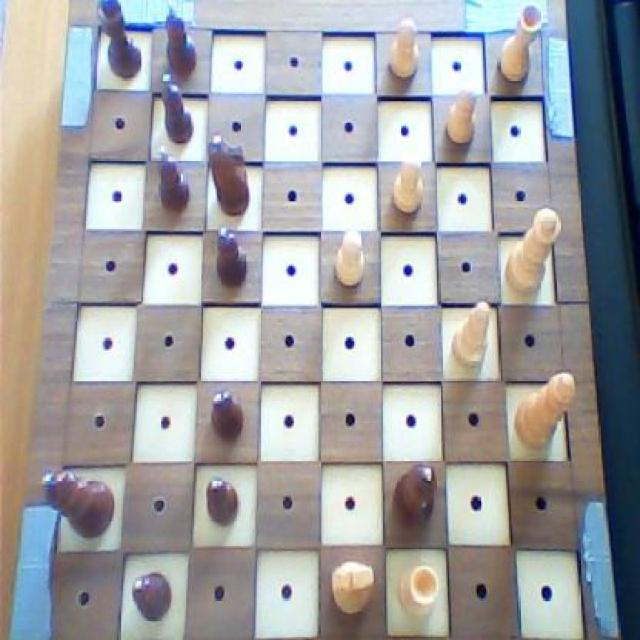black-bishop: (41, 466, 117, 543)
black-king: (205, 131, 252, 220)
black-knight: (157, 0, 200, 77), (156, 70, 197, 146), (208, 222, 252, 289), (151, 146, 193, 215), (206, 384, 249, 444), (128, 572, 174, 625), (203, 474, 239, 529)
black-pawn: (391, 458, 440, 531)
black-queen: (96, 0, 142, 83)
black-rook: (451, 297, 494, 373)
white-bishop: (514, 366, 578, 455)
white-king: (326, 557, 379, 618)
white-knight: (386, 150, 426, 218), (386, 14, 423, 81), (331, 224, 367, 292), (442, 83, 478, 148)
white-pawn: (503, 203, 564, 299)
white-queen: (494, 0, 544, 88), (395, 562, 441, 622)
